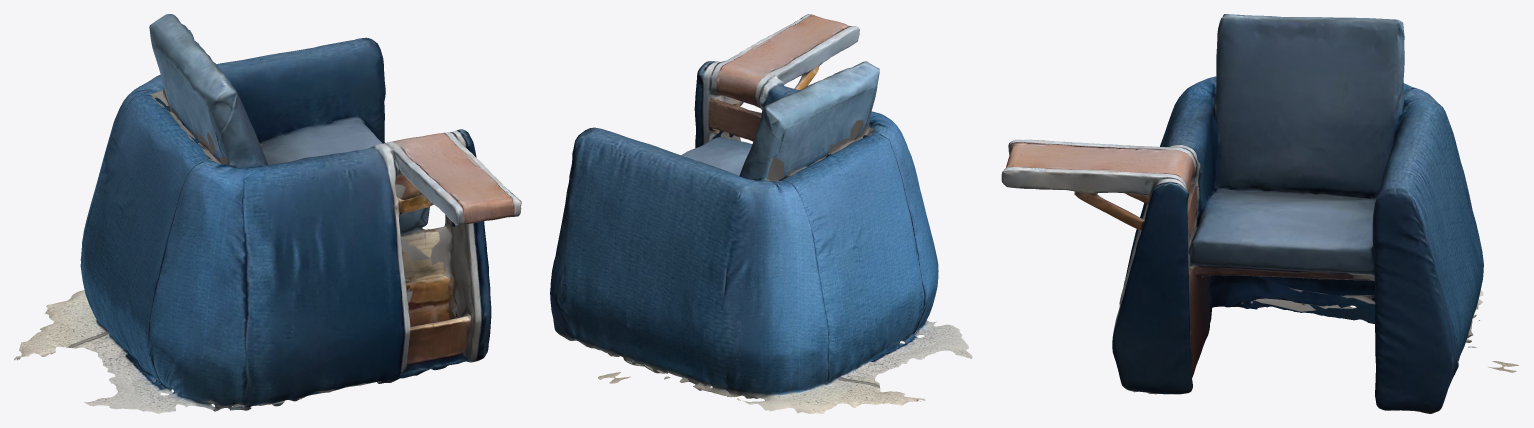
The model's file is JRMY.glb.
The picture shows the model from 3 angles, left to right: view 1: azimuth 30°, elevation 25°; view 2: azimuth 150°, elevation 25°; view 3: azimuth 270°, elevation 25°; orthographic projection. The views are drawn at different scales.
Visible parts, largest first — view 1: unnamed_n3d13; view 2: unnamed_n3d13; view 3: unnamed_n3d13.
Boxes of the visible parts, x1,y1,x2,y2 form: unnamed_n3d13: (14,14,521,413); unnamed_n3d13: (550,14,972,413); unnamed_n3d13: (1001,14,1518,413).
Size of the model in its own units: 1.13 by 0.8584 by 1.34.
1 material, 1 textured.
